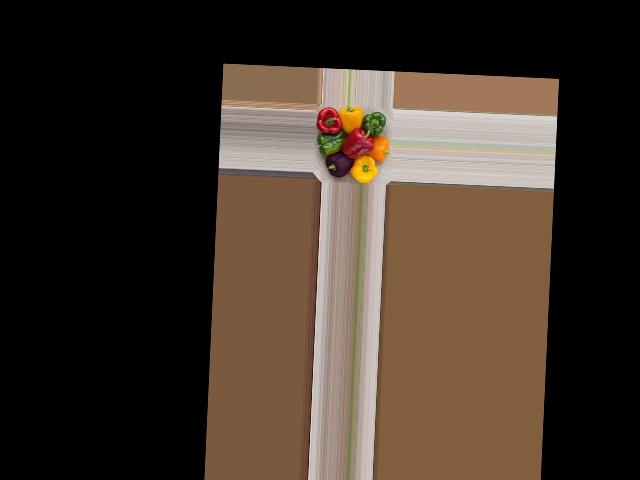bell_pepper: (318, 145, 354, 177)
